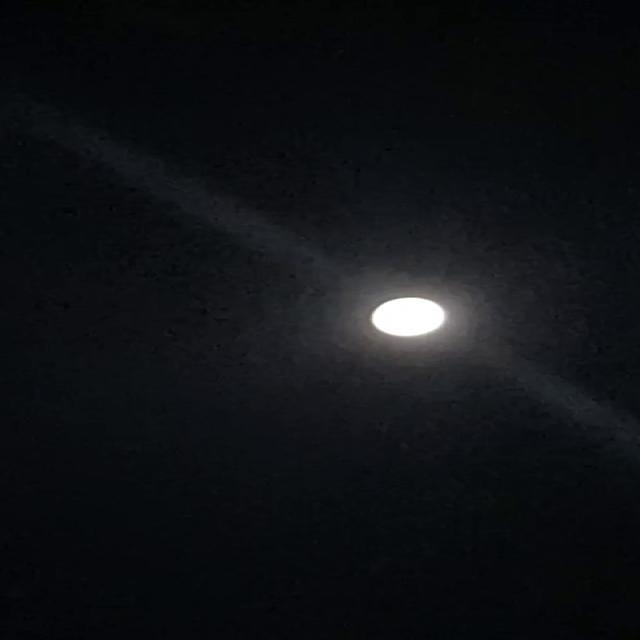moon: (342, 279, 469, 350)
